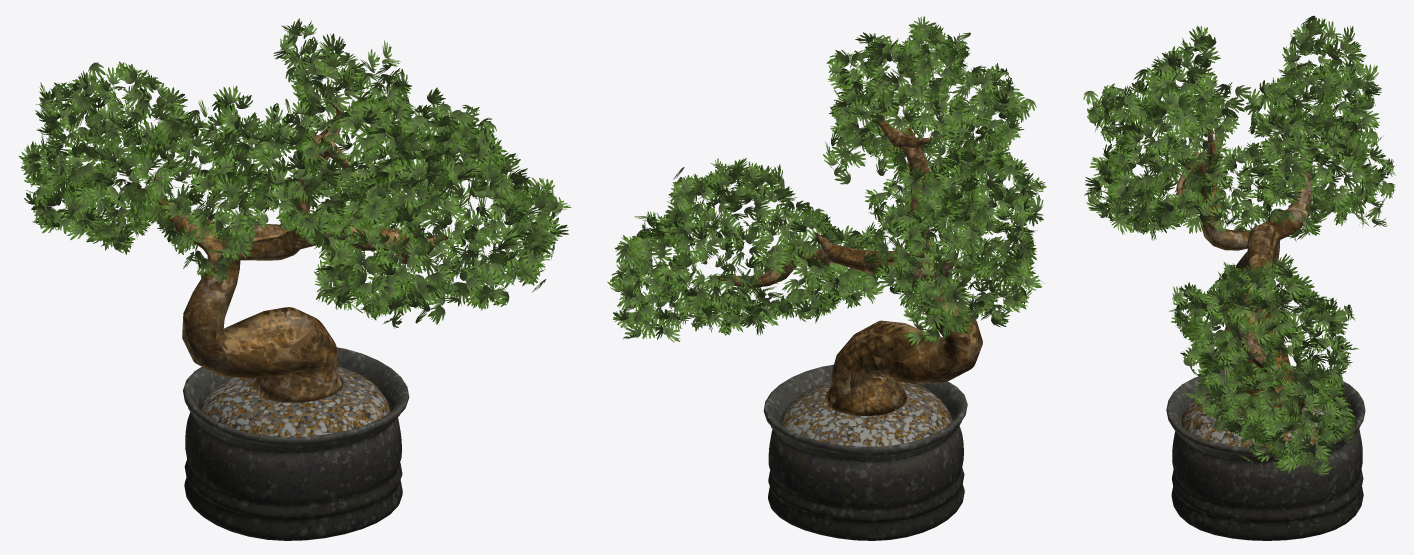
The model's file is bonsai_tree.glb.
The picture shows the model from 3 angles, left to right: view 1: azimuth 30°, elevation 25°; view 2: azimuth 150°, elevation 25°; view 3: azimuth 270°, elevation 25°; orthographic projection. The views are drawn at different scales.
Parts seen in each view (by area): view 1: BonsaiLeaves_0, BonsaiPot_2, BonsaiWood_1; view 2: BonsaiLeaves_0, BonsaiPot_2, BonsaiWood_1; view 3: BonsaiLeaves_0, BonsaiPot_2, BonsaiWood_1.
Part boxes in pixels (left/top/right/bottom): BonsaiLeaves_0: left=18, top=18, right=571, bottom=328; BonsaiPot_2: left=183, top=347, right=409, bottom=540; BonsaiWood_1: left=153, top=101, right=451, bottom=402; BonsaiLeaves_0: left=607, top=16, right=1046, bottom=345; BonsaiPot_2: left=763, top=364, right=967, bottom=540; BonsaiWood_1: left=716, top=101, right=982, bottom=415; BonsaiLeaves_0: left=1083, top=15, right=1396, bottom=475; BonsaiPot_2: left=1166, top=370, right=1365, bottom=540; BonsaiWood_1: left=1176, top=126, right=1311, bottom=415.
Size of the model in its own units: 10.87 by 10.85 by 6.75.
Materials: 3 (3 with a texture image).
